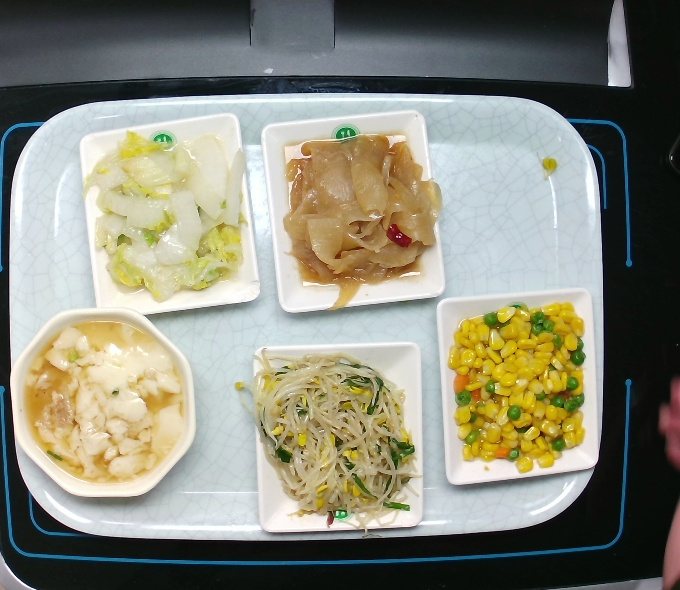wcq-DaBaiCai: (78, 125, 254, 306)
wcq-DongGua: (278, 127, 447, 317)
wcq-DouYa: (229, 341, 426, 540)
wcq-ShuiZhengDan: (16, 310, 192, 488)
wcq-TianMiTianDou: (444, 297, 589, 477)
